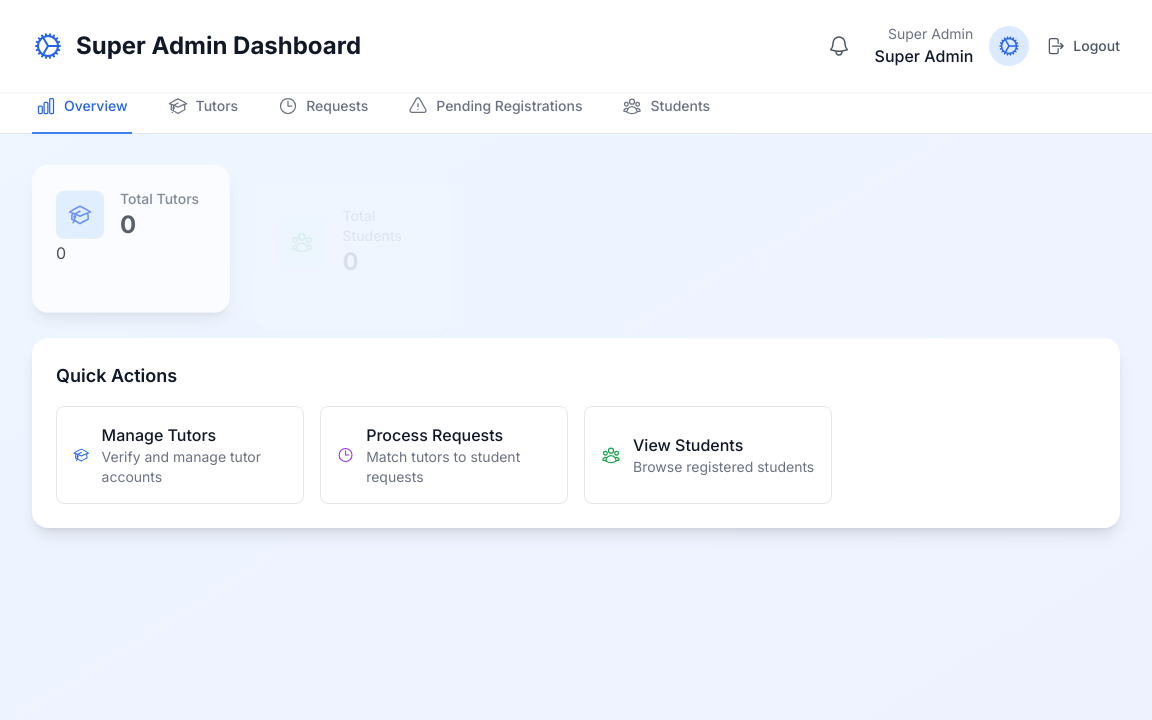
Test case: Super Admin Notifications Dropdown › opens the dropdown on bell click
The width and height of the screenshot is (1152, 720).
Click the button named "0 unread notifications" at (839, 46), box [819, 26, 859, 66]
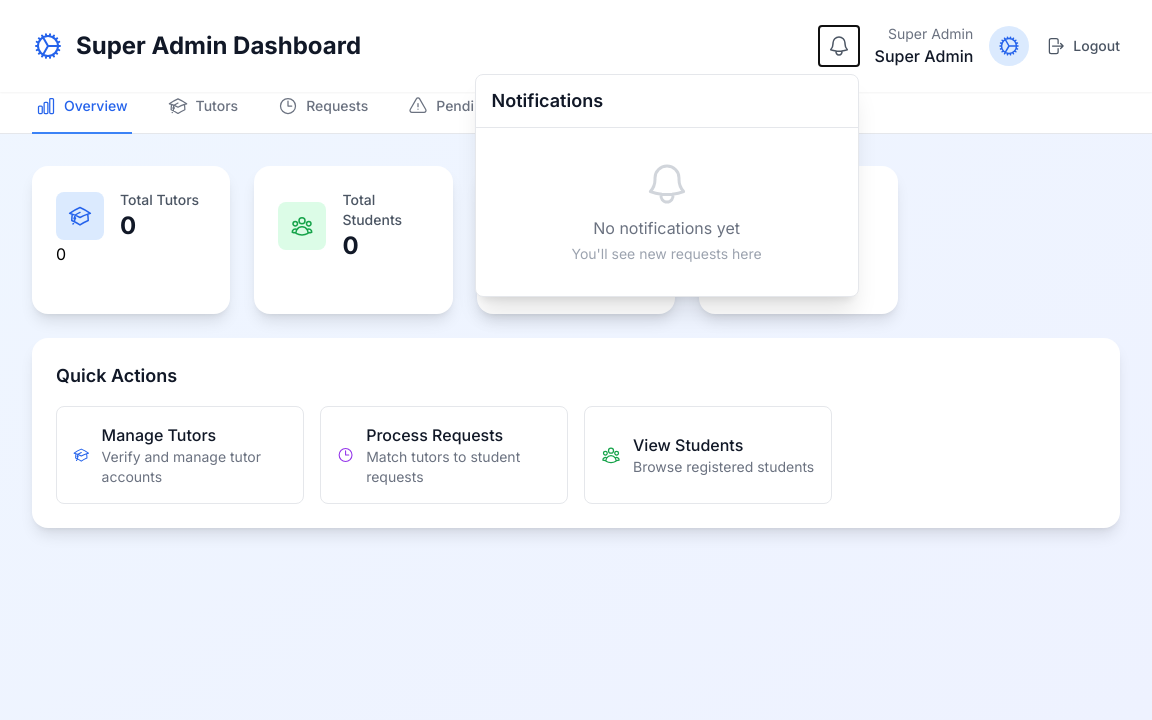
Expected: the heading "Notifications" is shown, [492, 87, 603, 115]
